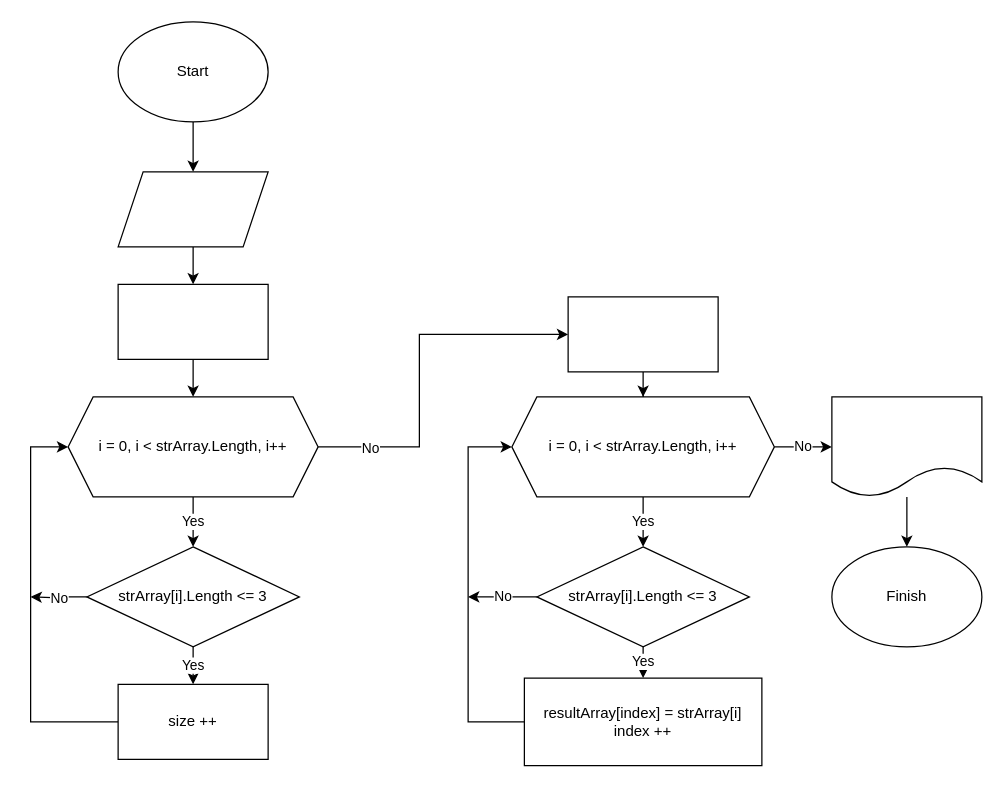
Some shapes in this 1004 by 788 pixel diagram are drawn without their labels. Here are the shapes that lost their labels. From the top down, the centre of each, then its label:
At (x=192, y=209): "strArray[]".
At (x=192, y=321): "size = 0".
At (x=642, y=334): "resultArray[size] index = 0".
At (x=906, y=446): "return resultArray".
